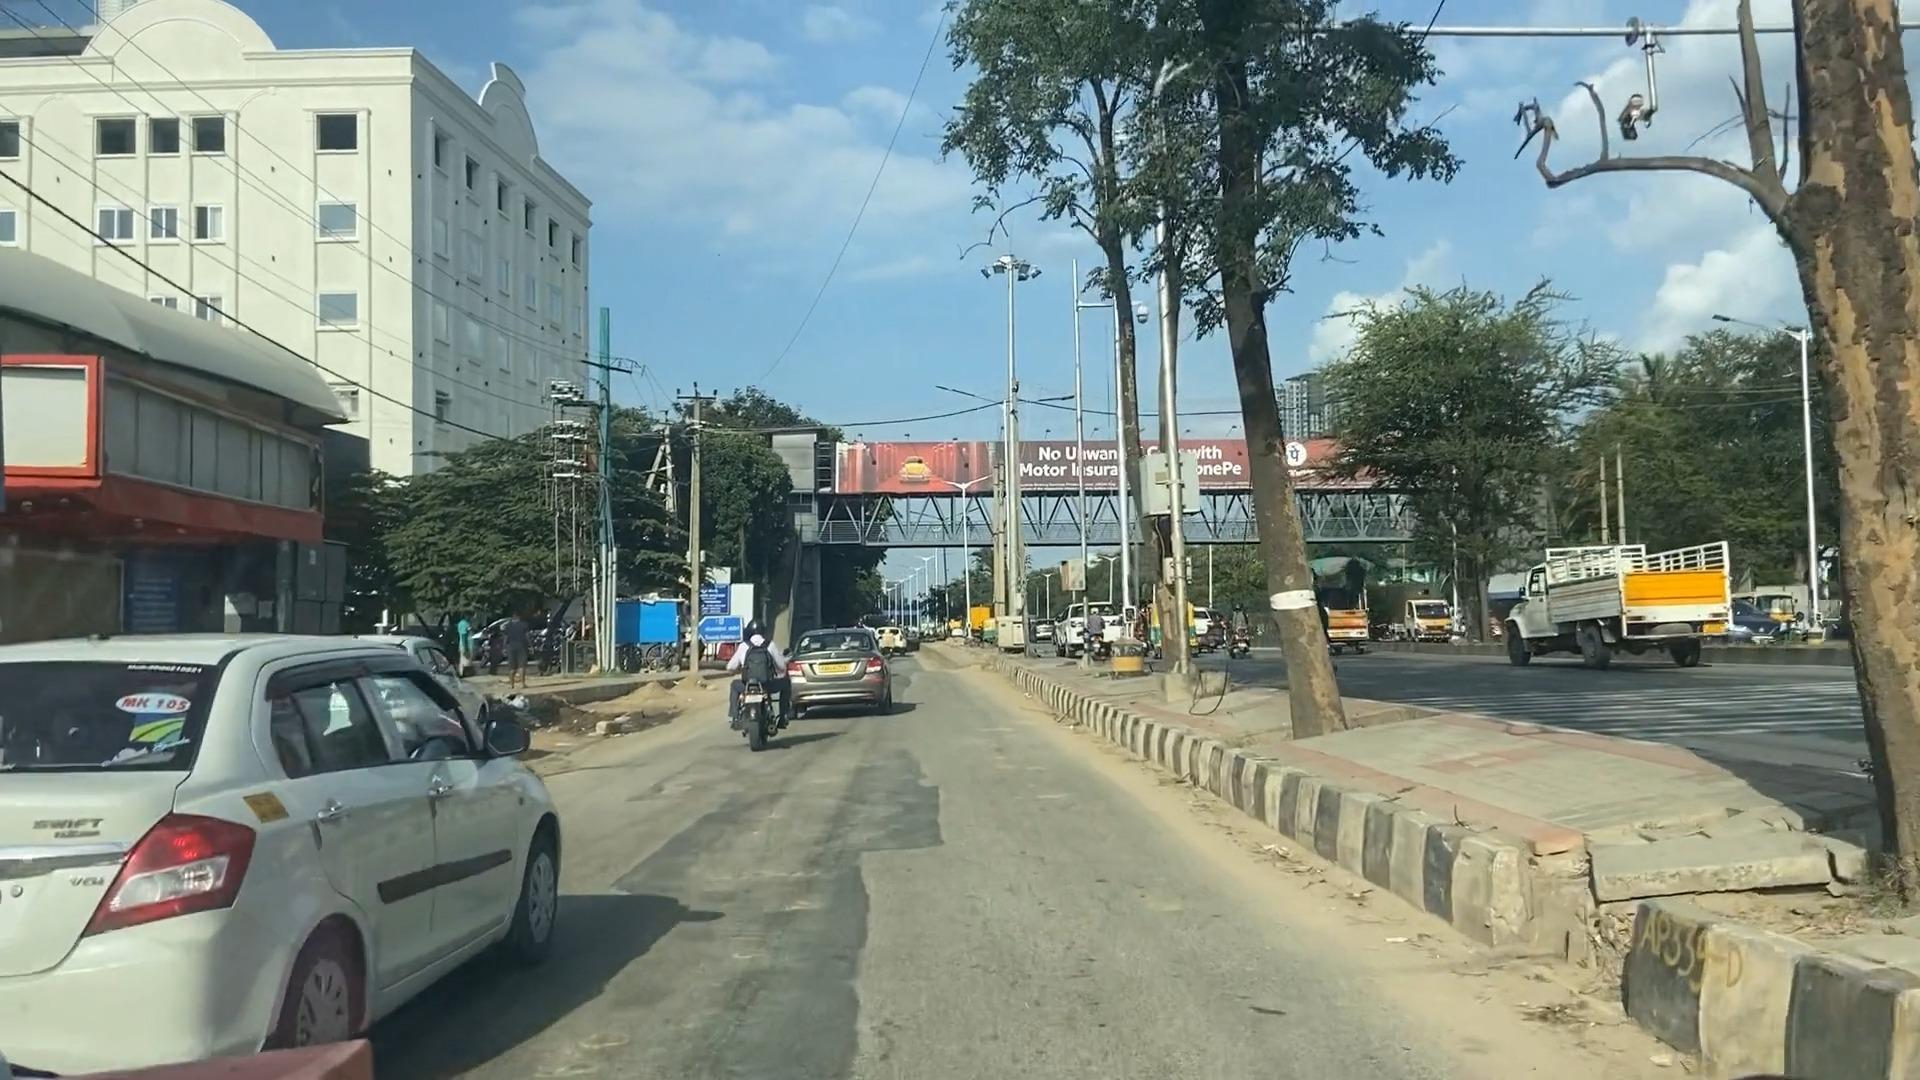LMV: (0, 633, 498, 1072), (736, 603, 789, 754)
UnsurfacedRoad: (505, 874, 971, 1043), (658, 757, 965, 833)
